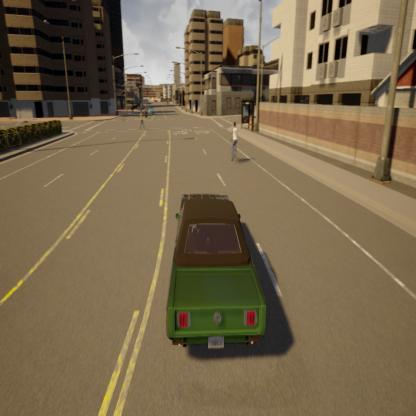Cars: (155, 182, 270, 358)
Pedestrian: (137, 108, 147, 131)
